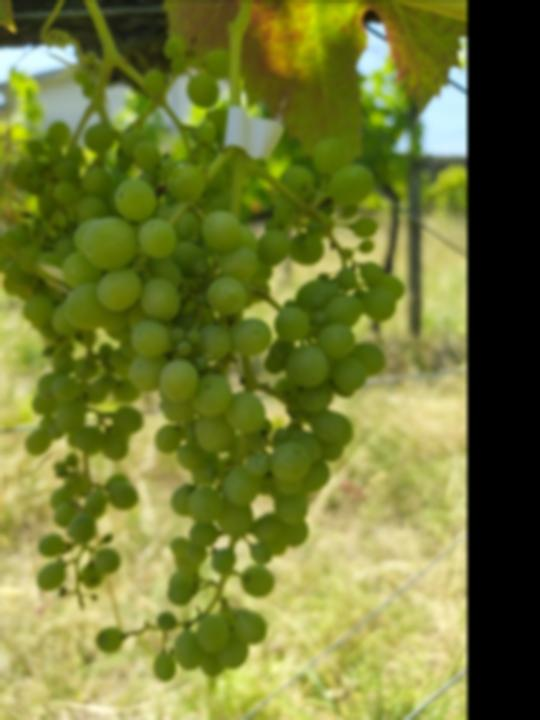grape: (63, 110, 403, 683)
